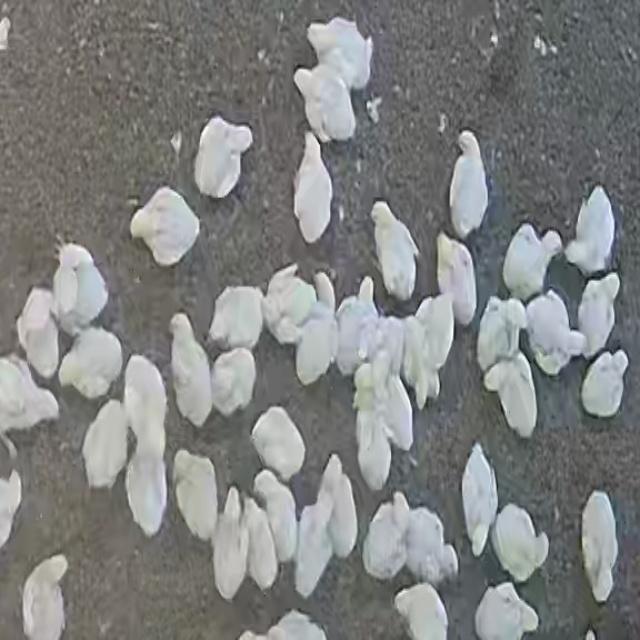chicken: (352, 344, 414, 487), (122, 357, 170, 532), (46, 238, 114, 341), (404, 293, 456, 407), (130, 186, 198, 266), (524, 288, 587, 374), (168, 313, 215, 428), (489, 502, 550, 584), (370, 202, 420, 302), (306, 17, 372, 92), (262, 263, 323, 344), (58, 325, 123, 401), (196, 111, 252, 199), (401, 503, 461, 585), (294, 64, 356, 142), (1, 357, 62, 436), (80, 399, 131, 492), (503, 223, 563, 302), (361, 491, 413, 582), (579, 490, 620, 604), (483, 355, 539, 438), (460, 443, 500, 558), (293, 132, 334, 244), (566, 186, 616, 277), (448, 130, 489, 240), (334, 275, 378, 377), (318, 451, 358, 560), (172, 451, 220, 540), (211, 489, 249, 600), (21, 554, 70, 638), (250, 406, 304, 482), (18, 288, 63, 378), (207, 283, 265, 352), (474, 582, 542, 640), (296, 489, 333, 595), (476, 296, 526, 374), (576, 274, 622, 358), (436, 232, 477, 326), (256, 469, 298, 560), (238, 499, 279, 592), (294, 308, 339, 387), (212, 347, 260, 418), (580, 349, 629, 418), (392, 583, 451, 640)
